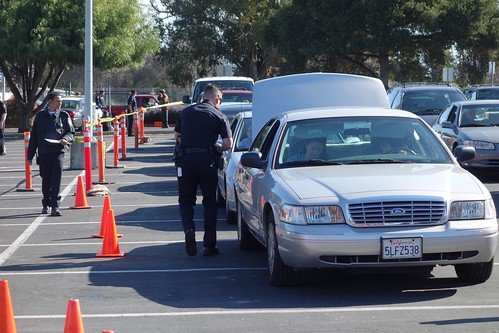car: (241, 113, 490, 284)
policeman: (175, 78, 227, 252), (27, 91, 74, 219)
traffic cone: (97, 208, 126, 258), (1, 274, 20, 333), (69, 178, 96, 211)
tree: (1, 1, 143, 137)
